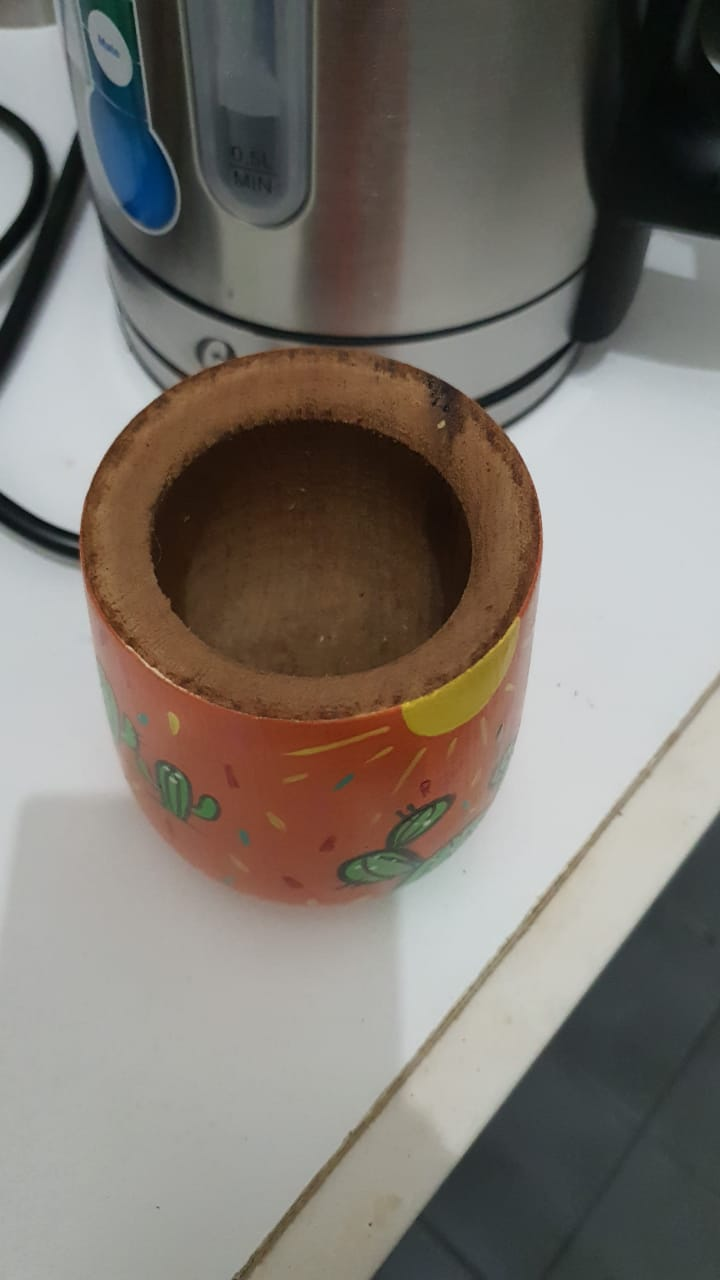madera: (53, 344, 561, 906)
mate: (24, 342, 566, 913)
